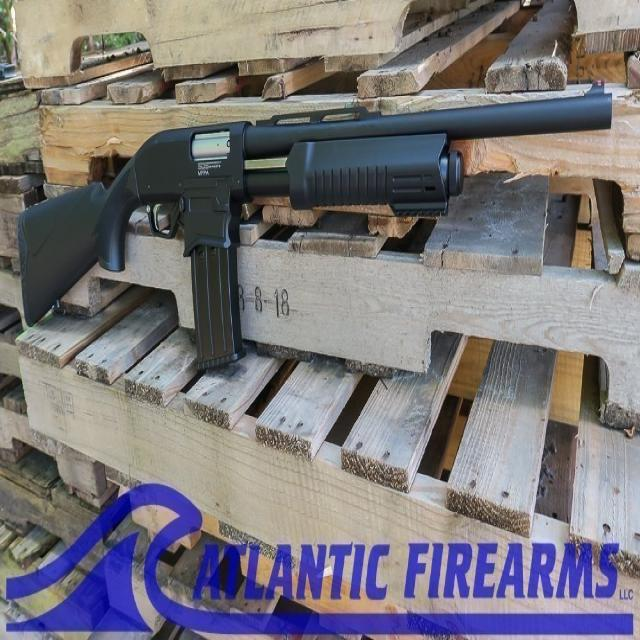ShotGun: (18, 96, 613, 327)
